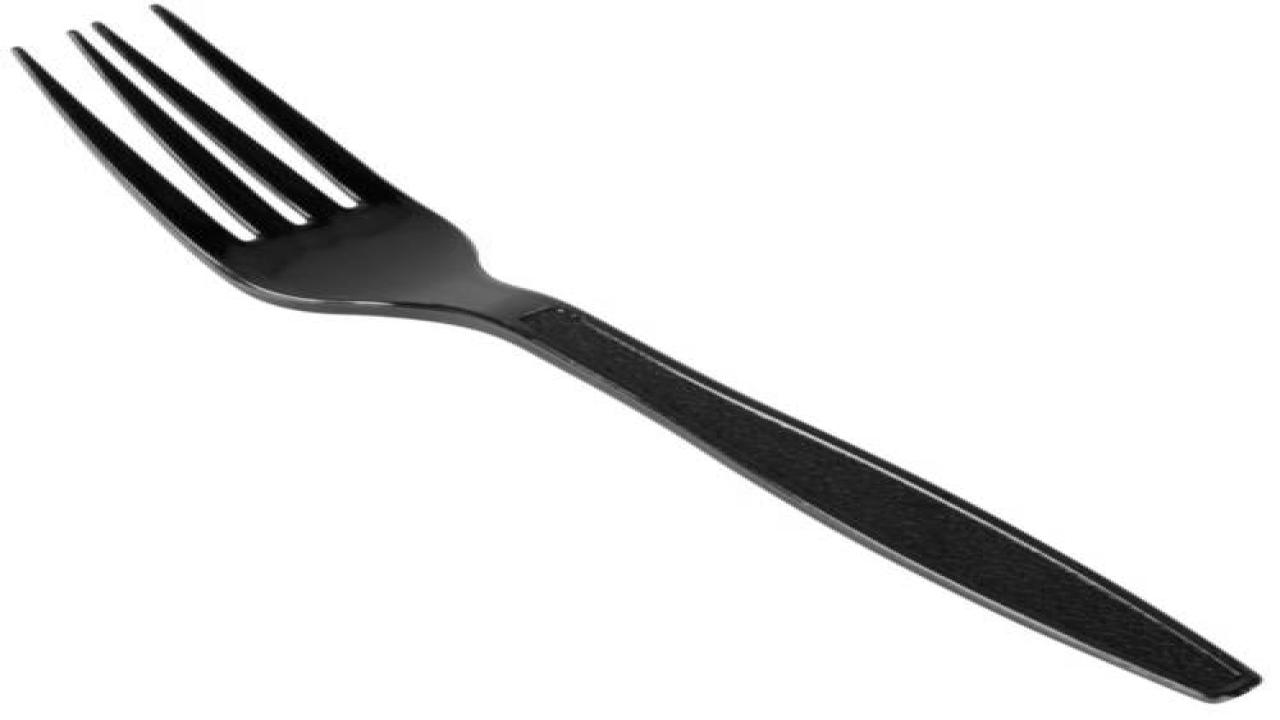fork: (8, 2, 1262, 704)
